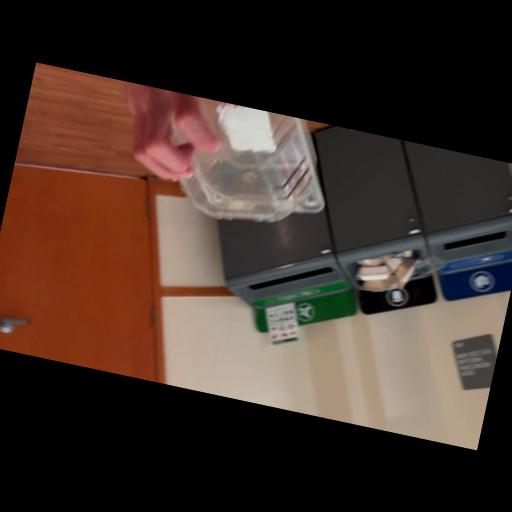small_plastic_container: (151, 92, 336, 239)
